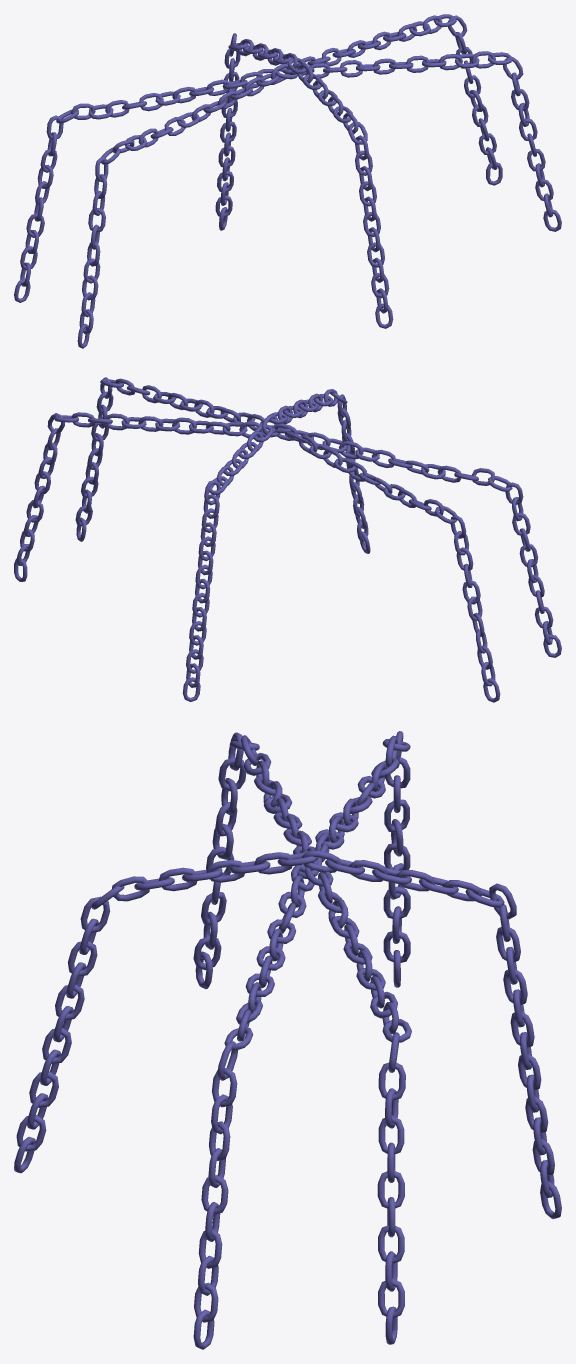
File: sm_chains.fbx
3 views of the same model, one above another, from view 1: azimuth 30°, elevation 25°; view 2: azimuth 150°, elevation 25°; view 3: azimuth 270°, elevation 25° (orthographic). The views are drawn at different scales.
Parts seen in each view (by area): view 1: MASH1_ReproMesh, pasted__MASH1_ReproMesh, MASH2_ReproMesh; view 2: pasted__MASH1_ReproMesh, MASH1_ReproMesh, MASH2_ReproMesh; view 3: MASH2_ReproMesh, MASH1_ReproMesh, pasted__MASH1_ReproMesh.
Boxes of the visible parts, bbox=[...] form: MASH1_ReproMesh: bbox=[14, 51, 561, 302]; pasted__MASH1_ReproMesh: bbox=[77, 14, 502, 348]; MASH2_ReproMesh: bbox=[215, 33, 393, 328]; pasted__MASH1_ReproMesh: bbox=[14, 412, 561, 657]; MASH1_ReproMesh: bbox=[75, 377, 500, 702]; MASH2_ReproMesh: bbox=[182, 389, 370, 701]; MASH2_ReproMesh: bbox=[14, 850, 561, 1219]; MASH1_ReproMesh: bbox=[193, 731, 410, 1349]; pasted__MASH1_ReproMesh: bbox=[193, 732, 411, 1344].
Bounding box in the file's own units: 259 × 118 × 160.
